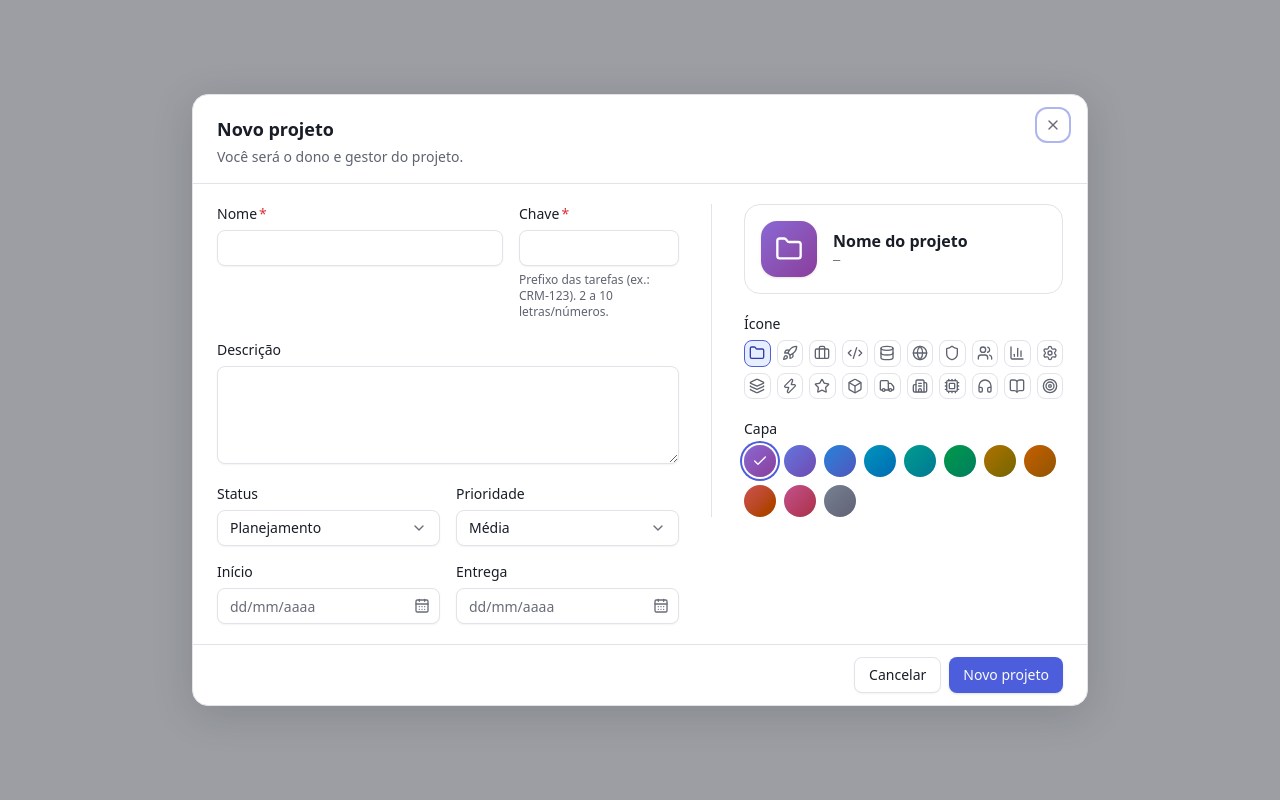
Test: ProjectFormDialog › valida intervalo de datas antes de enviar
This screenshot has width=1280, height=800.
Type "CRM Corporativo" into the field labelled "Nome*".
click(360, 248); type("CRM Corporativo")  # box x1=217 y1=230 x2=503 y2=266
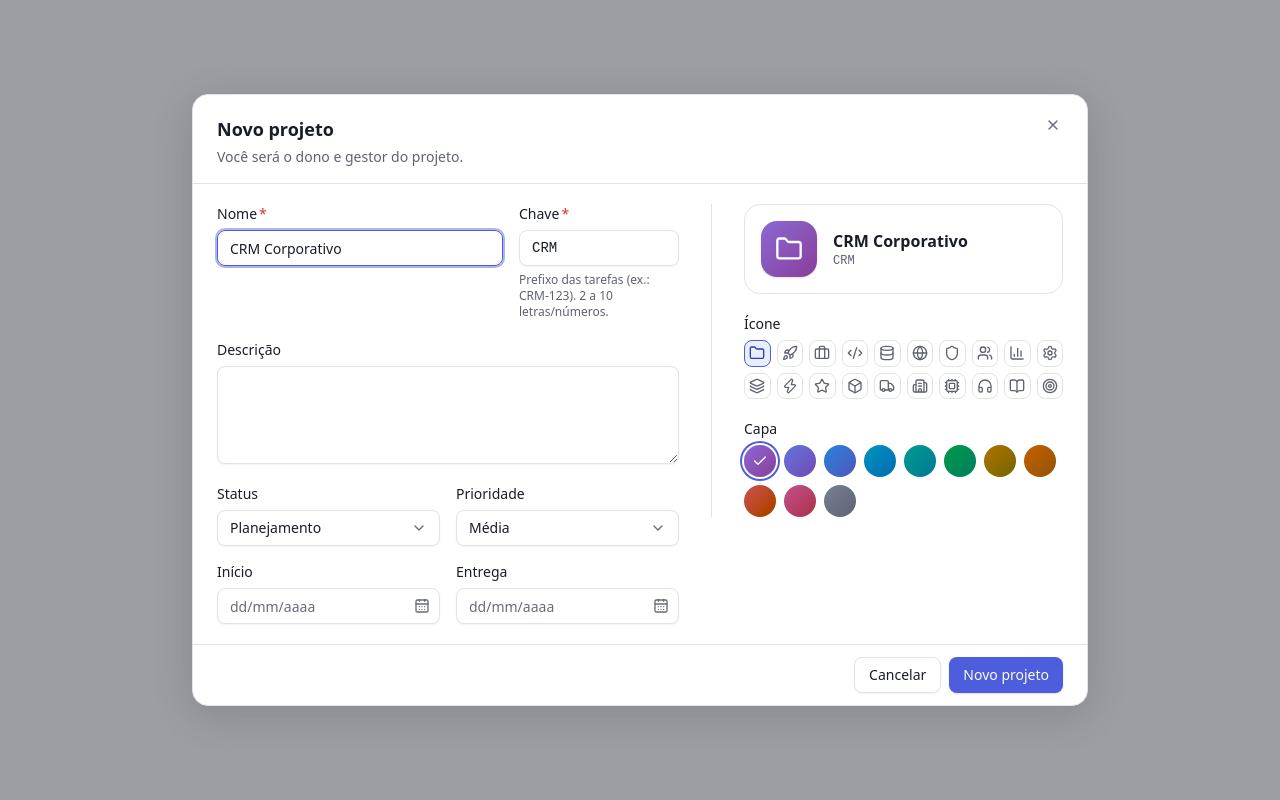
Type "01092026" into the field labelled "Início".
click(328, 606); type("01092026")  # box x1=217 y1=588 x2=440 y2=624
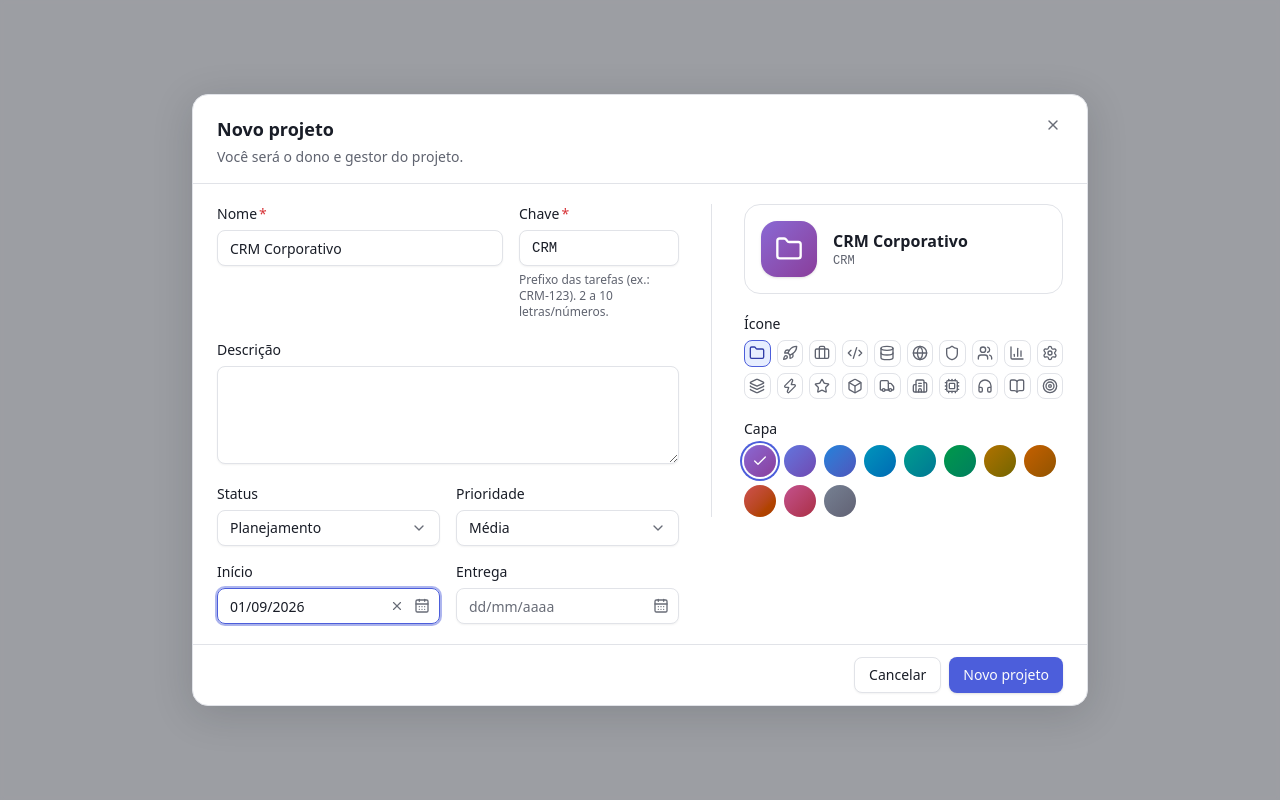
Type "01082026" into the field labelled "Entrega".
click(568, 606); type("01082026")  # box x1=456 y1=588 x2=679 y2=624
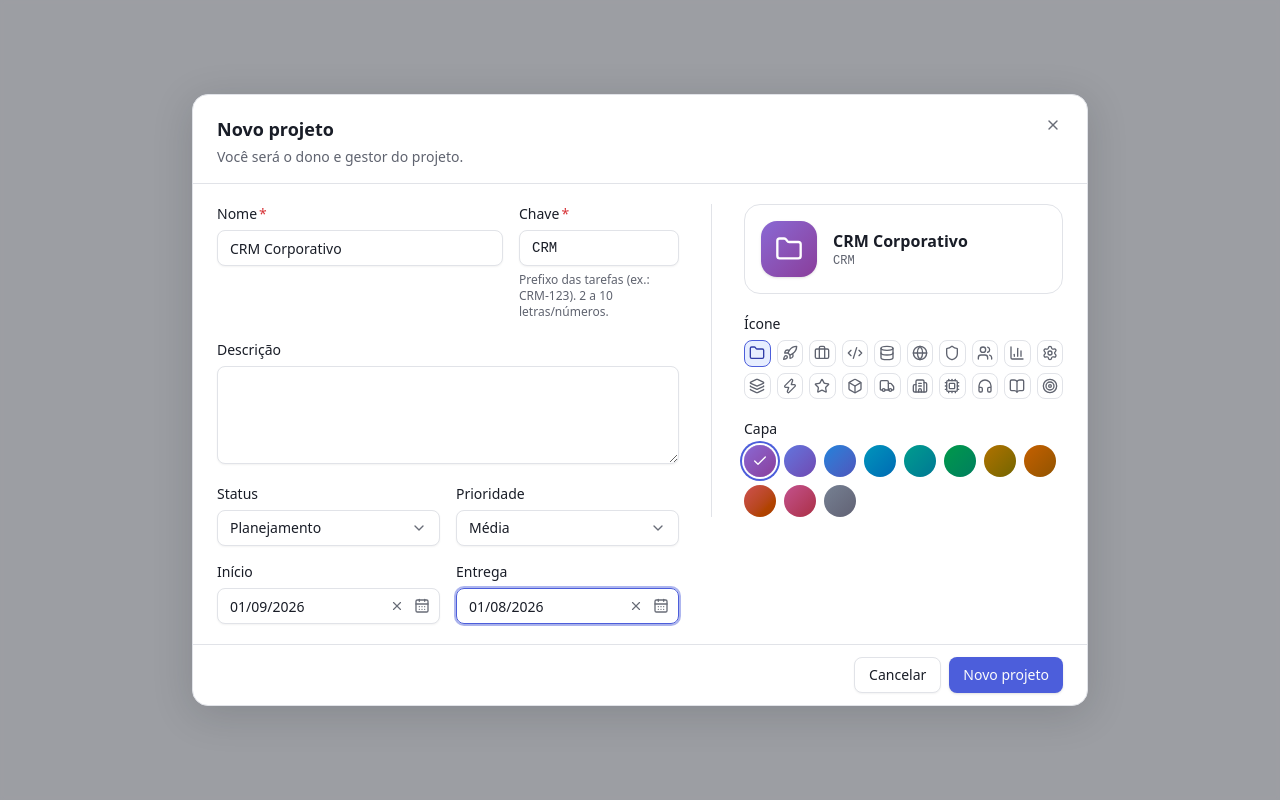
Click the button "Novo projeto".
click(1006, 675)  # box x1=949 y1=657 x2=1063 y2=693
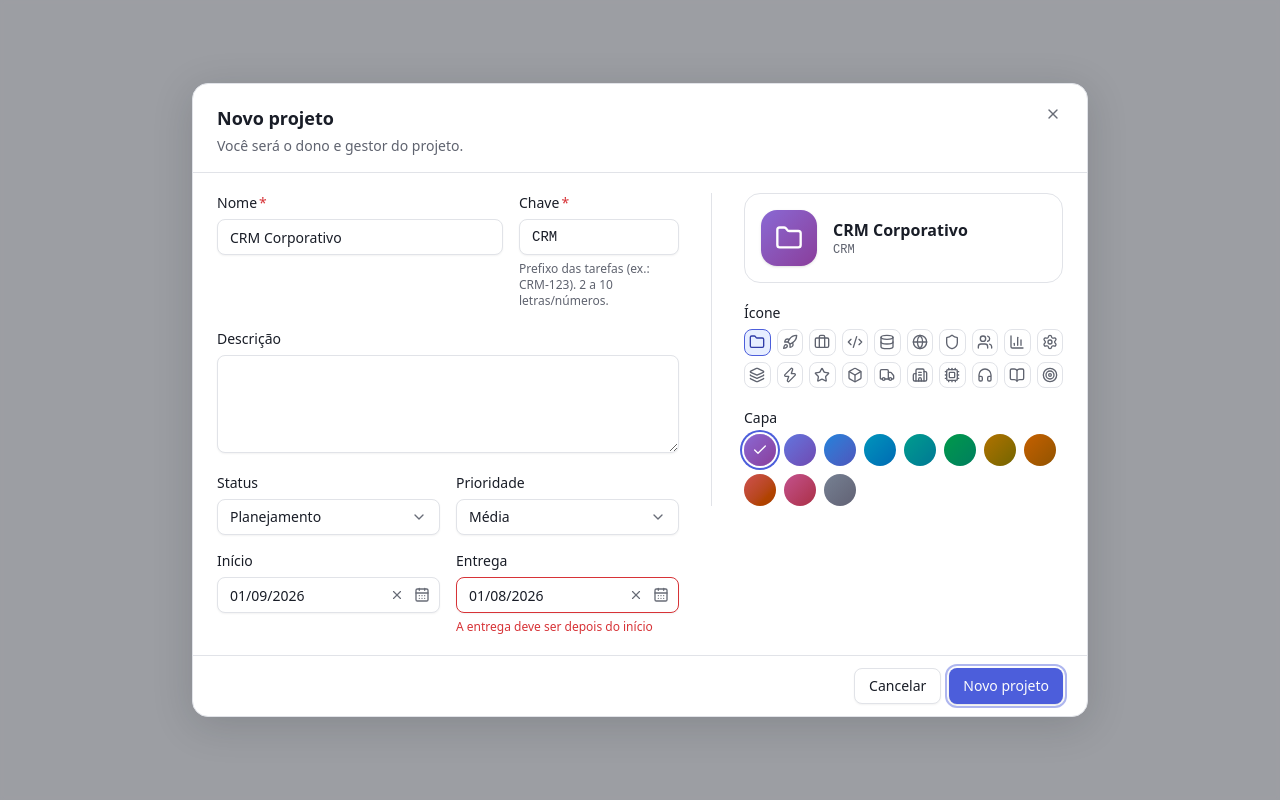
Expected: the text "A entrega deve ser depois do início" is shown, x1=456 y1=619 x2=679 y2=635
